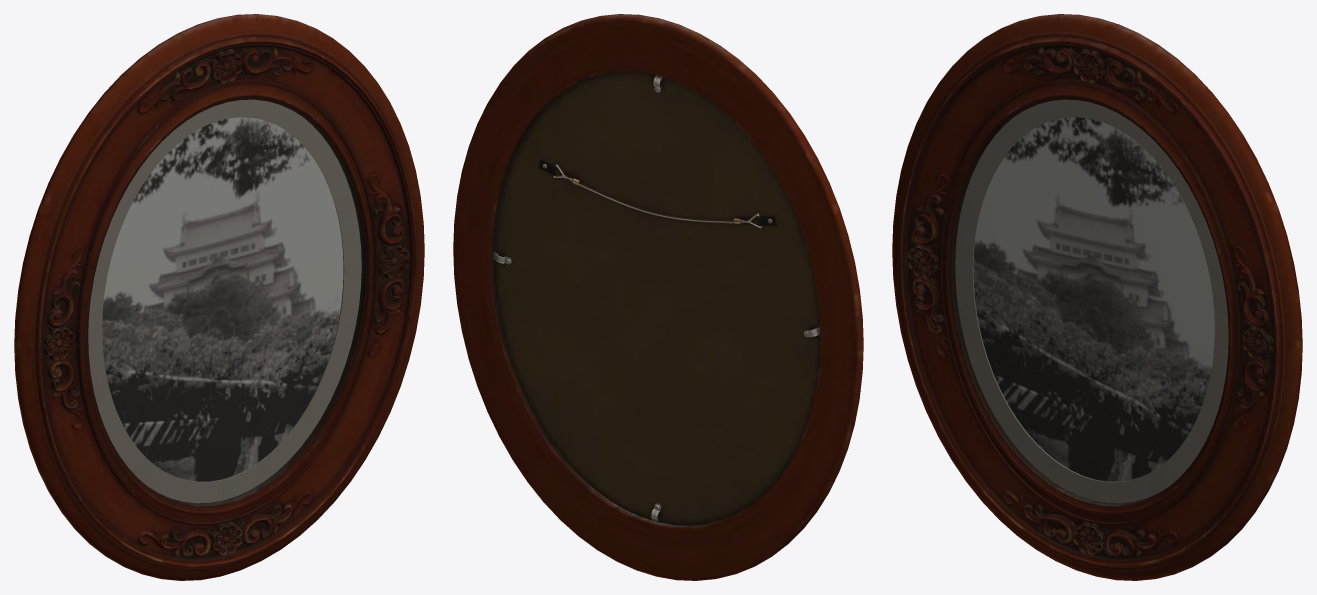
The model's file is hanging_picture_frame_03.glb.
3 renders of one model, left to right at view 1: azimuth 30°, elevation 25°; view 2: azimuth 150°, elevation 25°; view 3: azimuth 330°, elevation 25°, orthographic.
Parts seen in each view (by area): view 1: hanging_picture_frame_03, hanging_picture_frame_03_glass; view 2: hanging_picture_frame_03; view 3: hanging_picture_frame_03, hanging_picture_frame_03_glass.
Part boxes in pixels (<box>): hanging_picture_frame_03: <box>14,14,424,580</box>; hanging_picture_frame_03_glass: <box>88,100,363,504</box>; hanging_picture_frame_03: <box>453,14,863,580</box>; hanging_picture_frame_03: <box>892,14,1302,580</box>; hanging_picture_frame_03_glass: <box>953,100,1228,504</box>.
Bounding box in the file's own units: 0.385 × 0.5024 × 0.0318.
3 materials, 2 textured.
